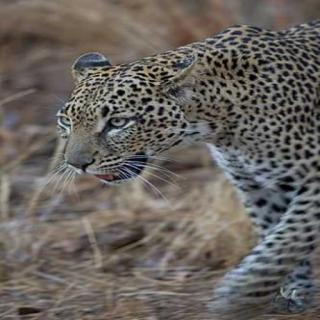Leopard: (59, 8, 320, 307)
